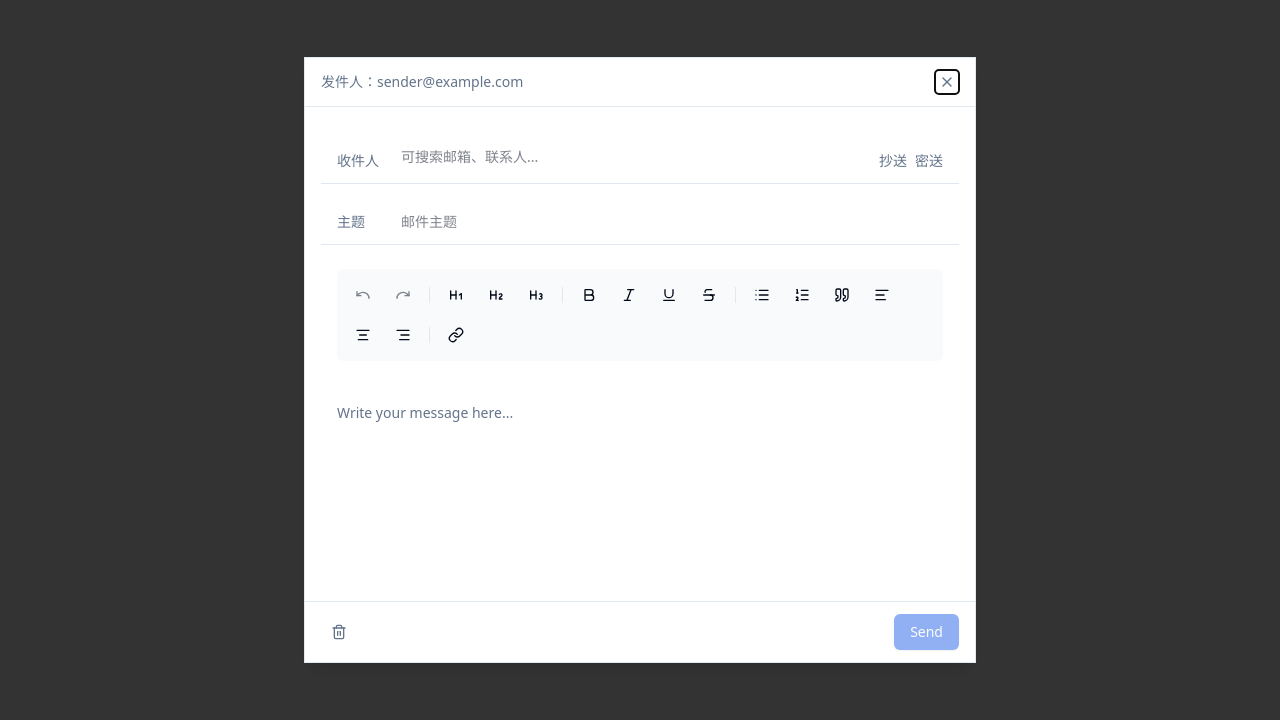
it: ComposeEmailModal - Interactions › Data Loss Prevention › shows confirmation dialog when closing with unsaved content
The width and height of the screenshot is (1280, 720).
Expected: the text "收件人" is shown, [337,151,379,170]
// Add content
Step 1. Type "Test Subject" into the field labelled "主题" → (680, 222), box [401,200,959,244]
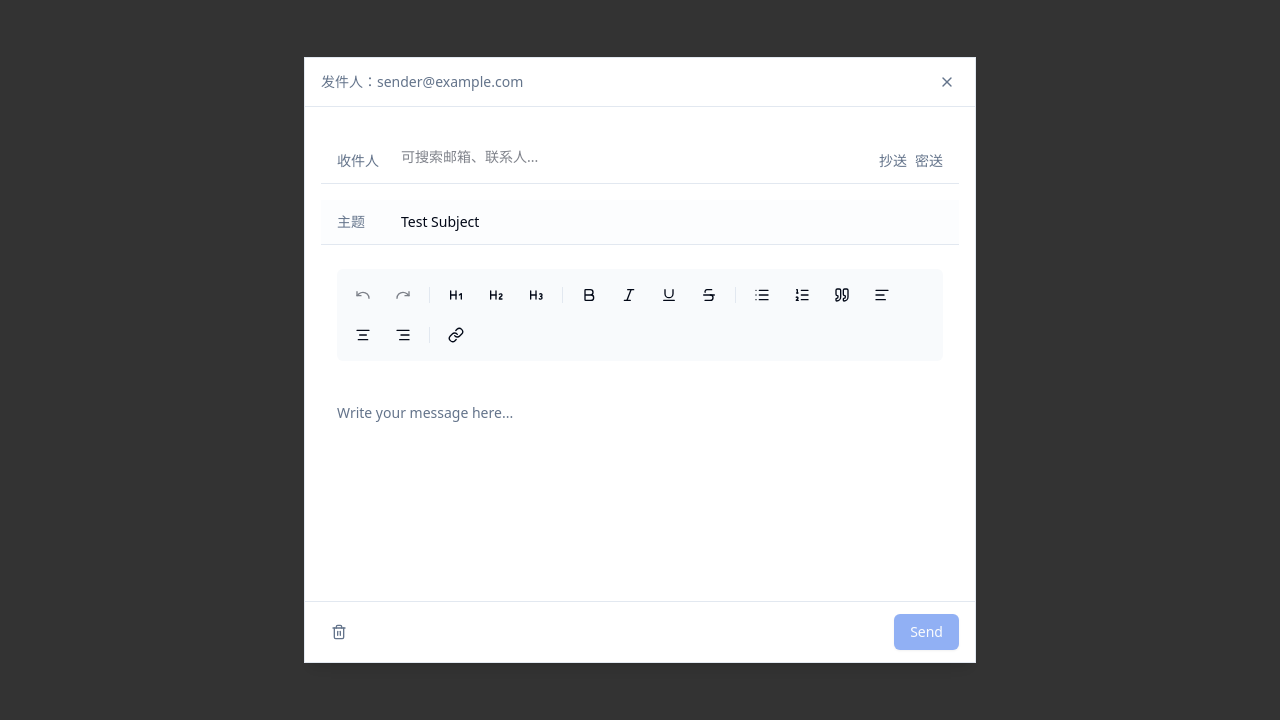
// Try to close modal via trash button
Step 2. Click the button named "trash" → (339, 632), box [321,614,357,650]
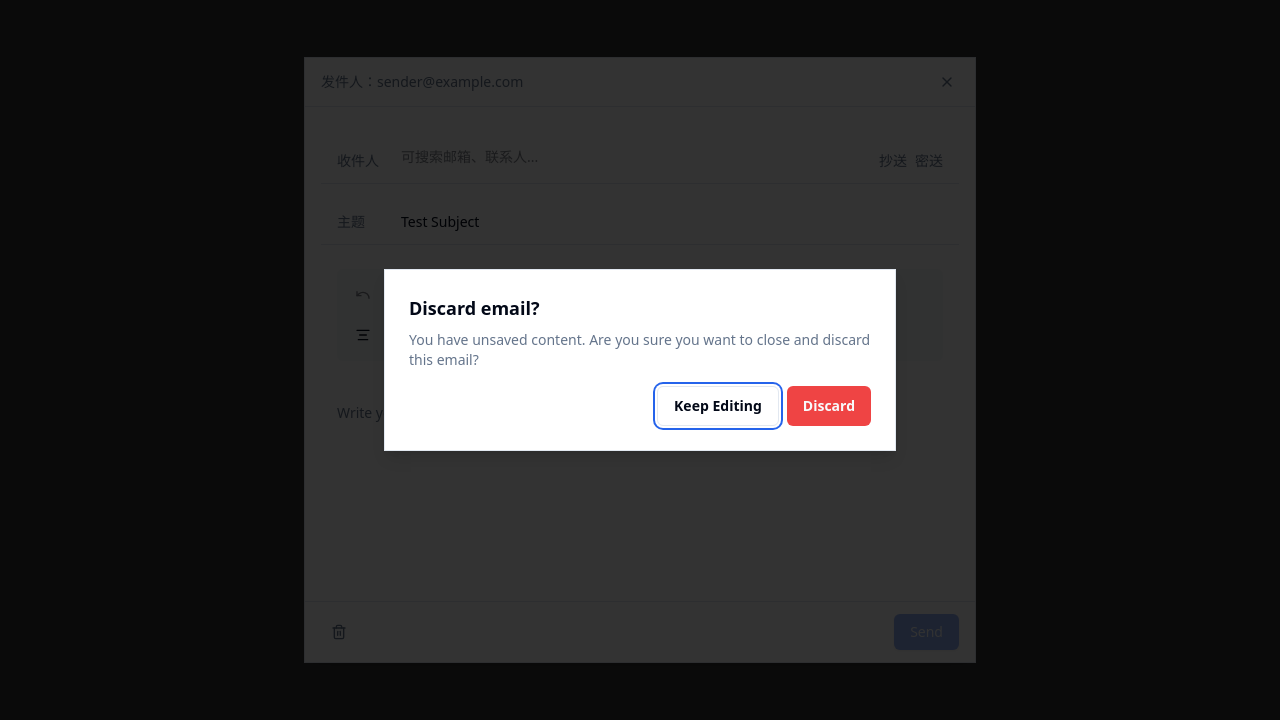
Expected: the heading "Discard email?" is shown, [409,296,540,320]
